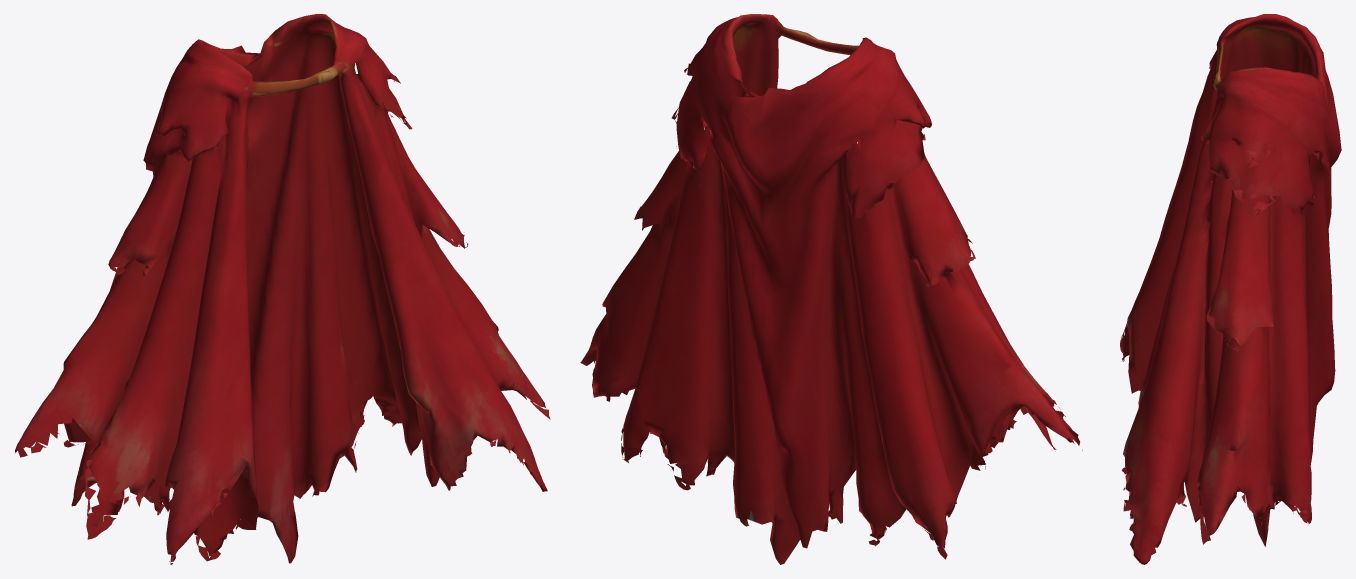
File: capa-eromash-base.glb
3 renders of one model, left to right at view 1: azimuth 30°, elevation 25°; view 2: azimuth 150°, elevation 25°; view 3: azimuth 270°, elevation 25°, orthographic. The views are drawn at different scales.
Parts seen in each view (by area): view 1: tripo_node_1375fd6e; view 2: tripo_node_1375fd6e; view 3: tripo_node_1375fd6e.
Part boxes in pixels (left/top/right/bottom): tripo_node_1375fd6e: left=15, top=14, right=550, bottom=564; tripo_node_1375fd6e: left=580, top=14, right=1082, bottom=564; tripo_node_1375fd6e: left=1120, top=14, right=1341, bottom=564.
Bounding box in the file's own units: 97.09 × 96.78 × 39.21.
Materials: 1 (1 with a texture image).
